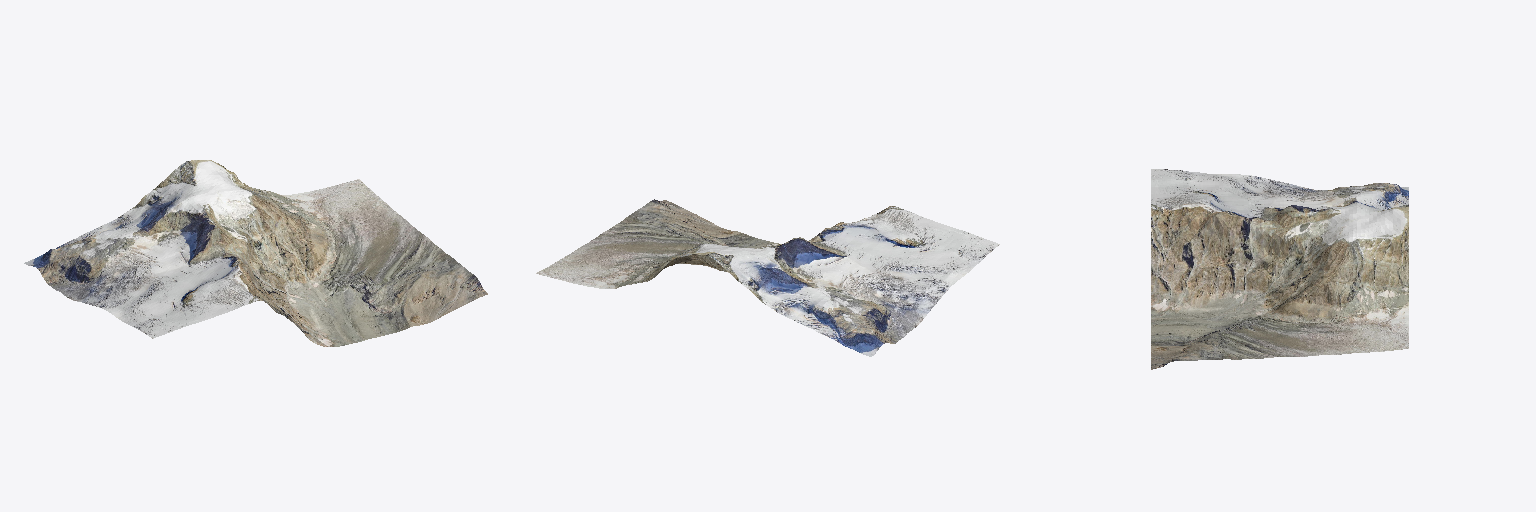
3 renders of one model, left to right at view 1: azimuth 30°, elevation 25°; view 2: azimuth 150°, elevation 25°; view 3: azimuth 270°, elevation 25°, orthographic.
Parts seen in each view (by area): view 1: EXPORT_GOOGLE_SAT_WM.024; view 2: EXPORT_GOOGLE_SAT_WM.024; view 3: EXPORT_GOOGLE_SAT_WM.024.
Boxes of the visible parts, x1,y1,x2,y2 form: EXPORT_GOOGLE_SAT_WM.024: [24, 160, 487, 346]; EXPORT_GOOGLE_SAT_WM.024: [536, 199, 999, 356]; EXPORT_GOOGLE_SAT_WM.024: [1151, 169, 1408, 369].
Bounding box in the file's own units: 4562 × 1260 × 3041.
Materials: 1 (1 with a texture image).